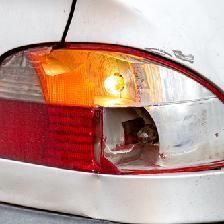bumper_dent: (23, 38, 218, 193)
